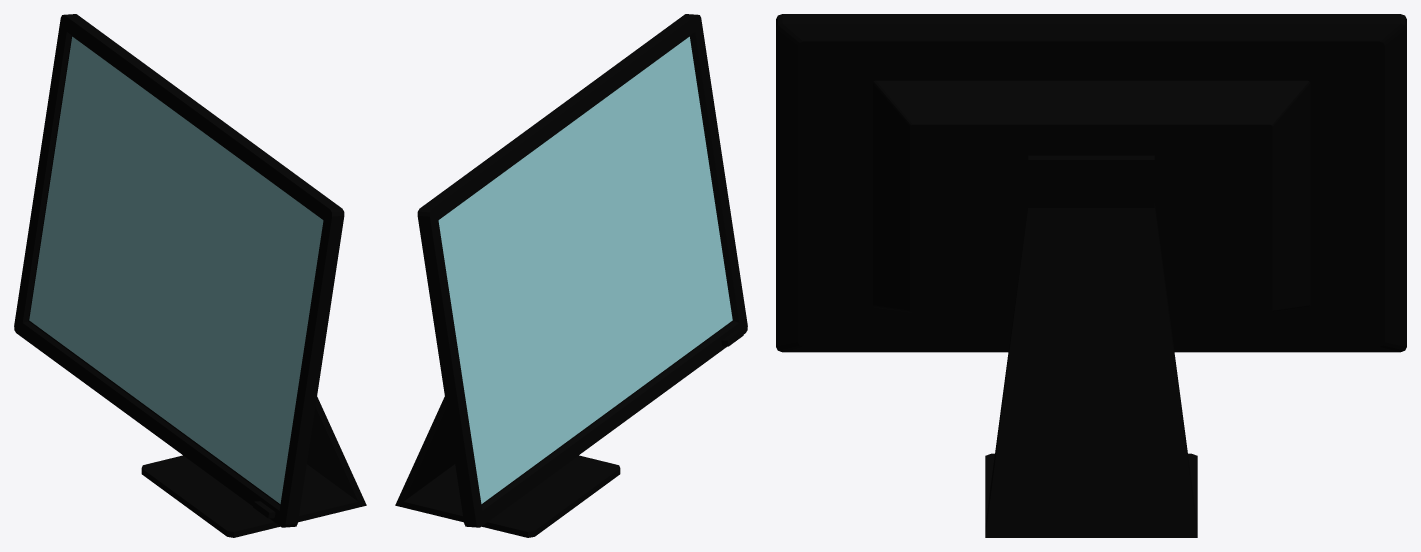
The model's file is Monitor-_6oCB8wF.glb.
3 views of the same model, side by side, from view 1: azimuth 30°, elevation 25°; view 2: azimuth 150°, elevation 25°; view 3: azimuth 270°, elevation 25° (orthographic). The views are drawn at different scales.
Parts seen in each view (by area): view 1: Monitor; view 2: Monitor; view 3: Monitor.
Part boxes in pixels (x1,y1,x2,y2): Monitor: [14, 14, 366, 537]; Monitor: [395, 14, 747, 537]; Monitor: [776, 14, 1406, 537].
Size of the model in its own units: 32.59 by 68.26 by 86.03.
1 material, 1 textured.
